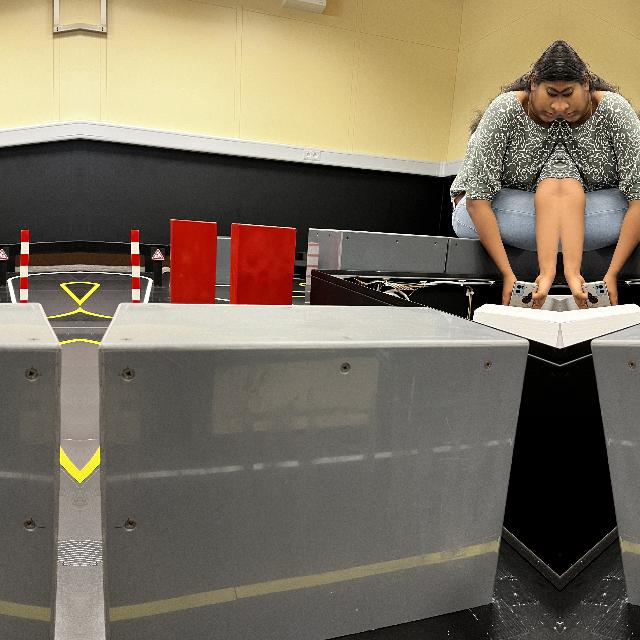obstacle: (102, 295, 530, 640), (0, 295, 58, 640), (590, 295, 640, 640)
